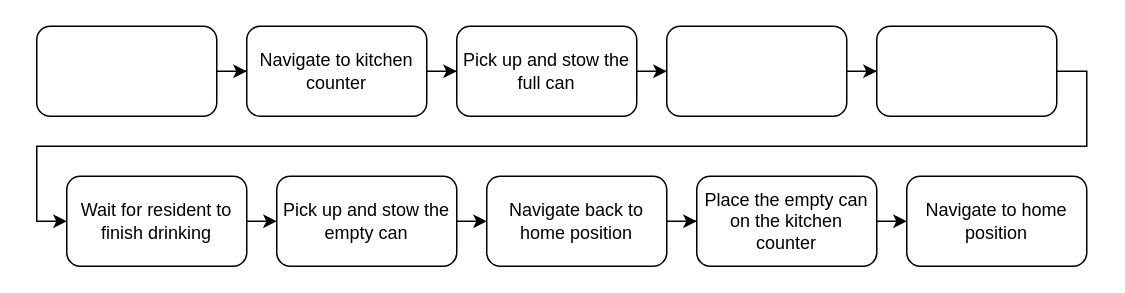
Image size: 1125x293. Some labels were removed from this diagram. The shapes that lost their labels are listed below. From the top down, each one's centre as x and y in pixels, then its label:
At [126,70]: "Wait for starting command".
At [756,70]: "Navigate to resident's table".
At [966,70]: "Place the full can on the resident's table".
